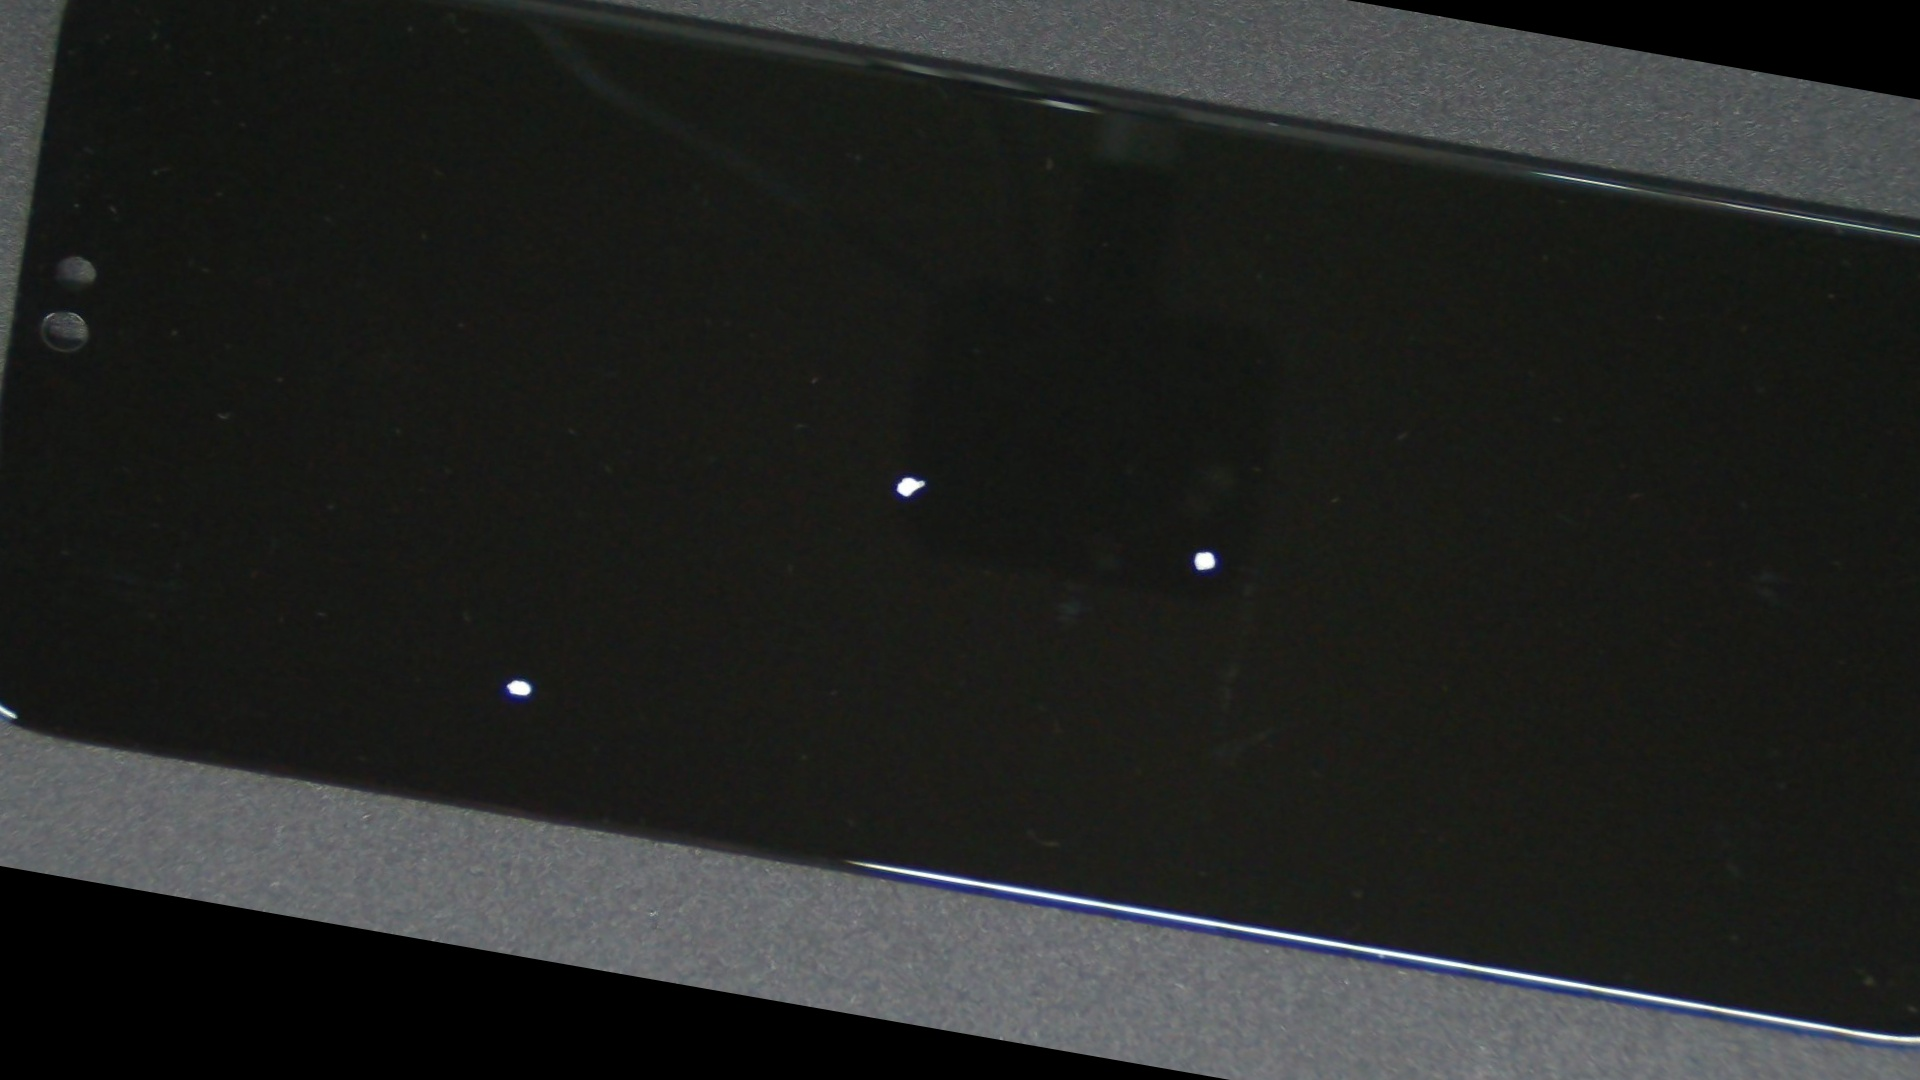oil: (500, 157, 1916, 944), (352, 119, 1461, 832), (137, 220, 928, 1007)
